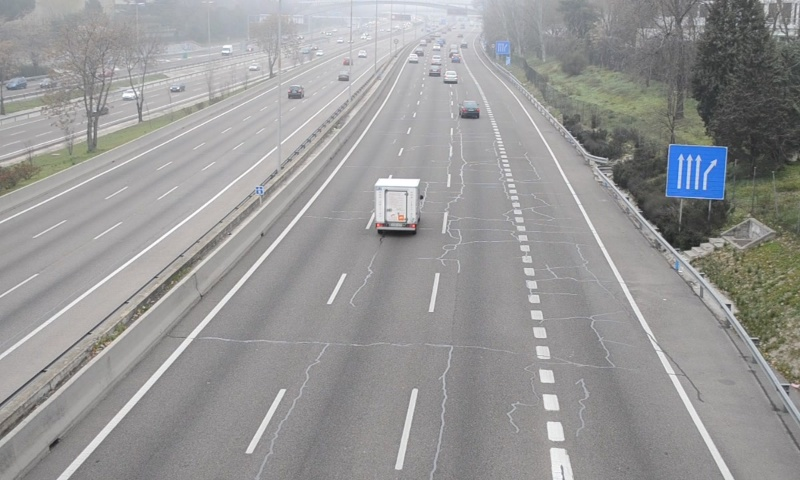car: (458, 98, 479, 118)
small-truck: (375, 178, 422, 232)
